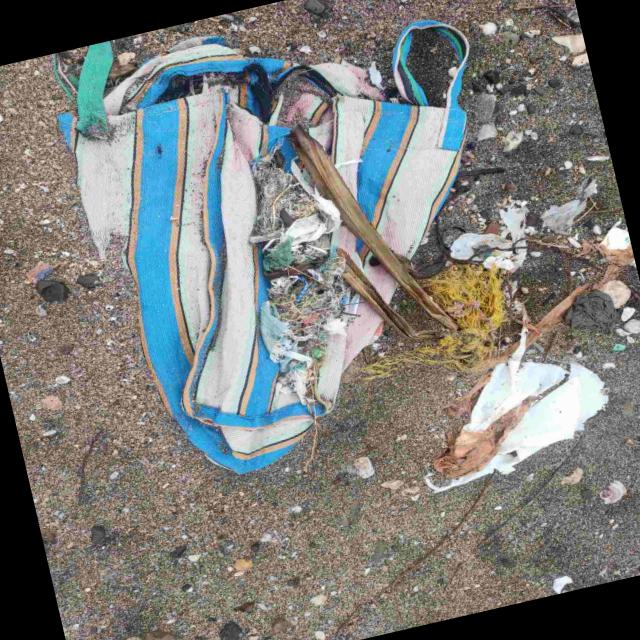rac_huu_co: (291, 128, 456, 330), (372, 263, 507, 376), (434, 386, 556, 478), (337, 249, 430, 337), (528, 282, 595, 342), (597, 244, 634, 281)
tui_ni_long: (71, 19, 468, 473)
